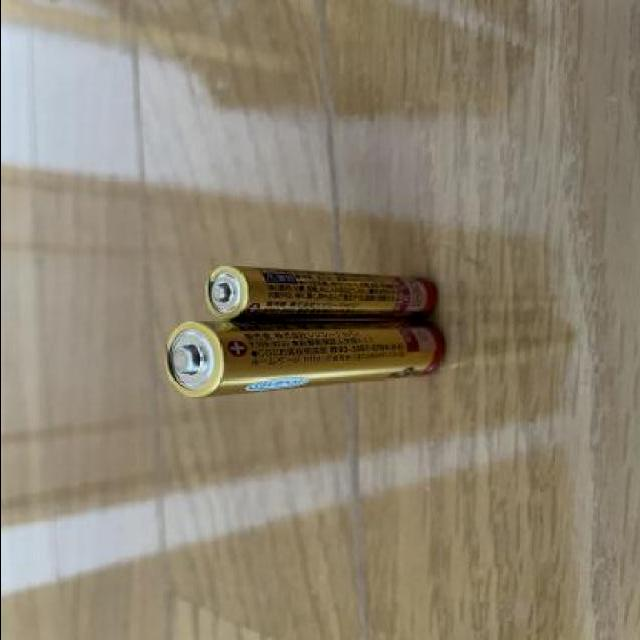AA: (160, 314, 445, 400)
AAA: (203, 262, 442, 328)
